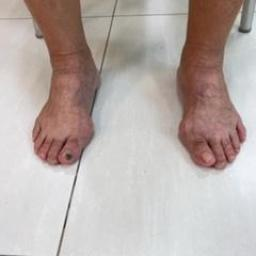Dorsal View -Both Feet-: (15, 26, 251, 186)
